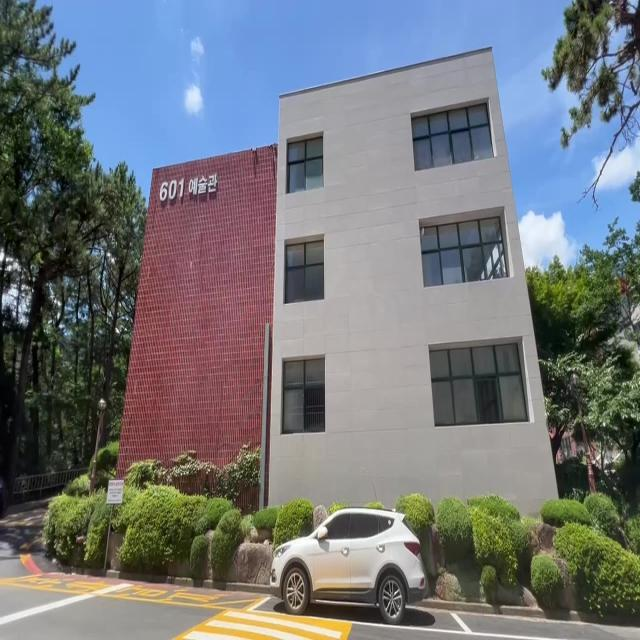building: (137, 20, 552, 466)
